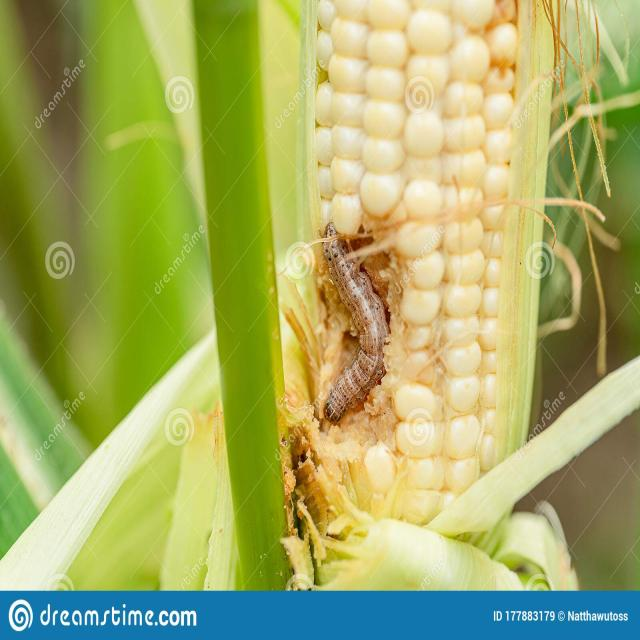yellow-stem-borer-larva: (284, 214, 409, 435)
